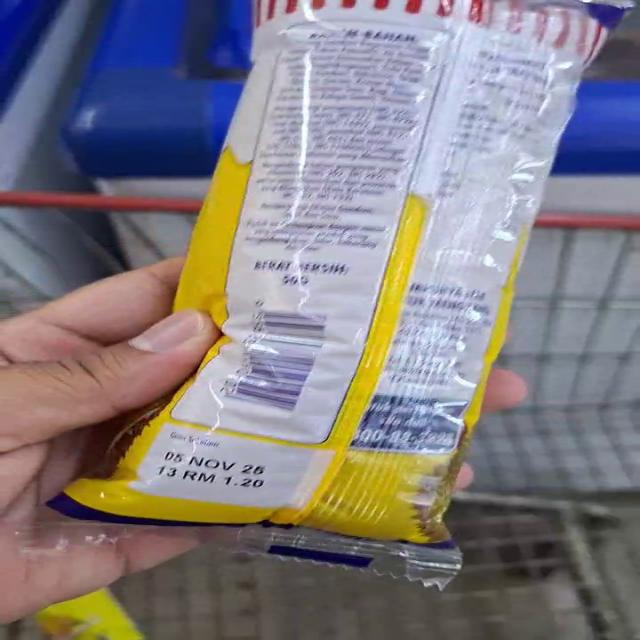Roti: (50, 255, 528, 593), (195, 0, 640, 279), (19, 586, 172, 640)
